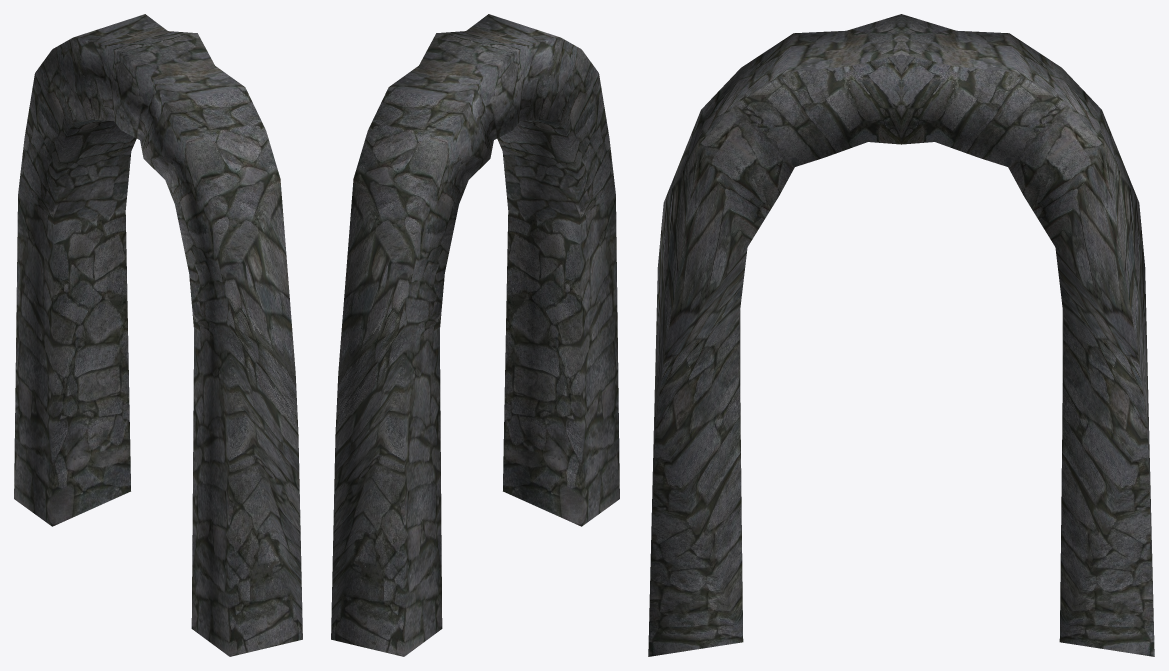
File: Arch.fbx
3 renders of one model, left to right at view 1: azimuth 30°, elevation 25°; view 2: azimuth 150°, elevation 25°; view 3: azimuth 270°, elevation 25°, orthographic. The views are drawn at different scales.
Visible parts, largest first — view 1: Arch; view 2: Arch; view 3: Arch.
Boxes of the visible parts, x1,y1,x2,y2 form: Arch: (14,14,302,656); Arch: (331,14,619,656); Arch: (648,14,1154,656).
Bounding box in the file's own units: 0.4106 × 2.41 × 1.82.
